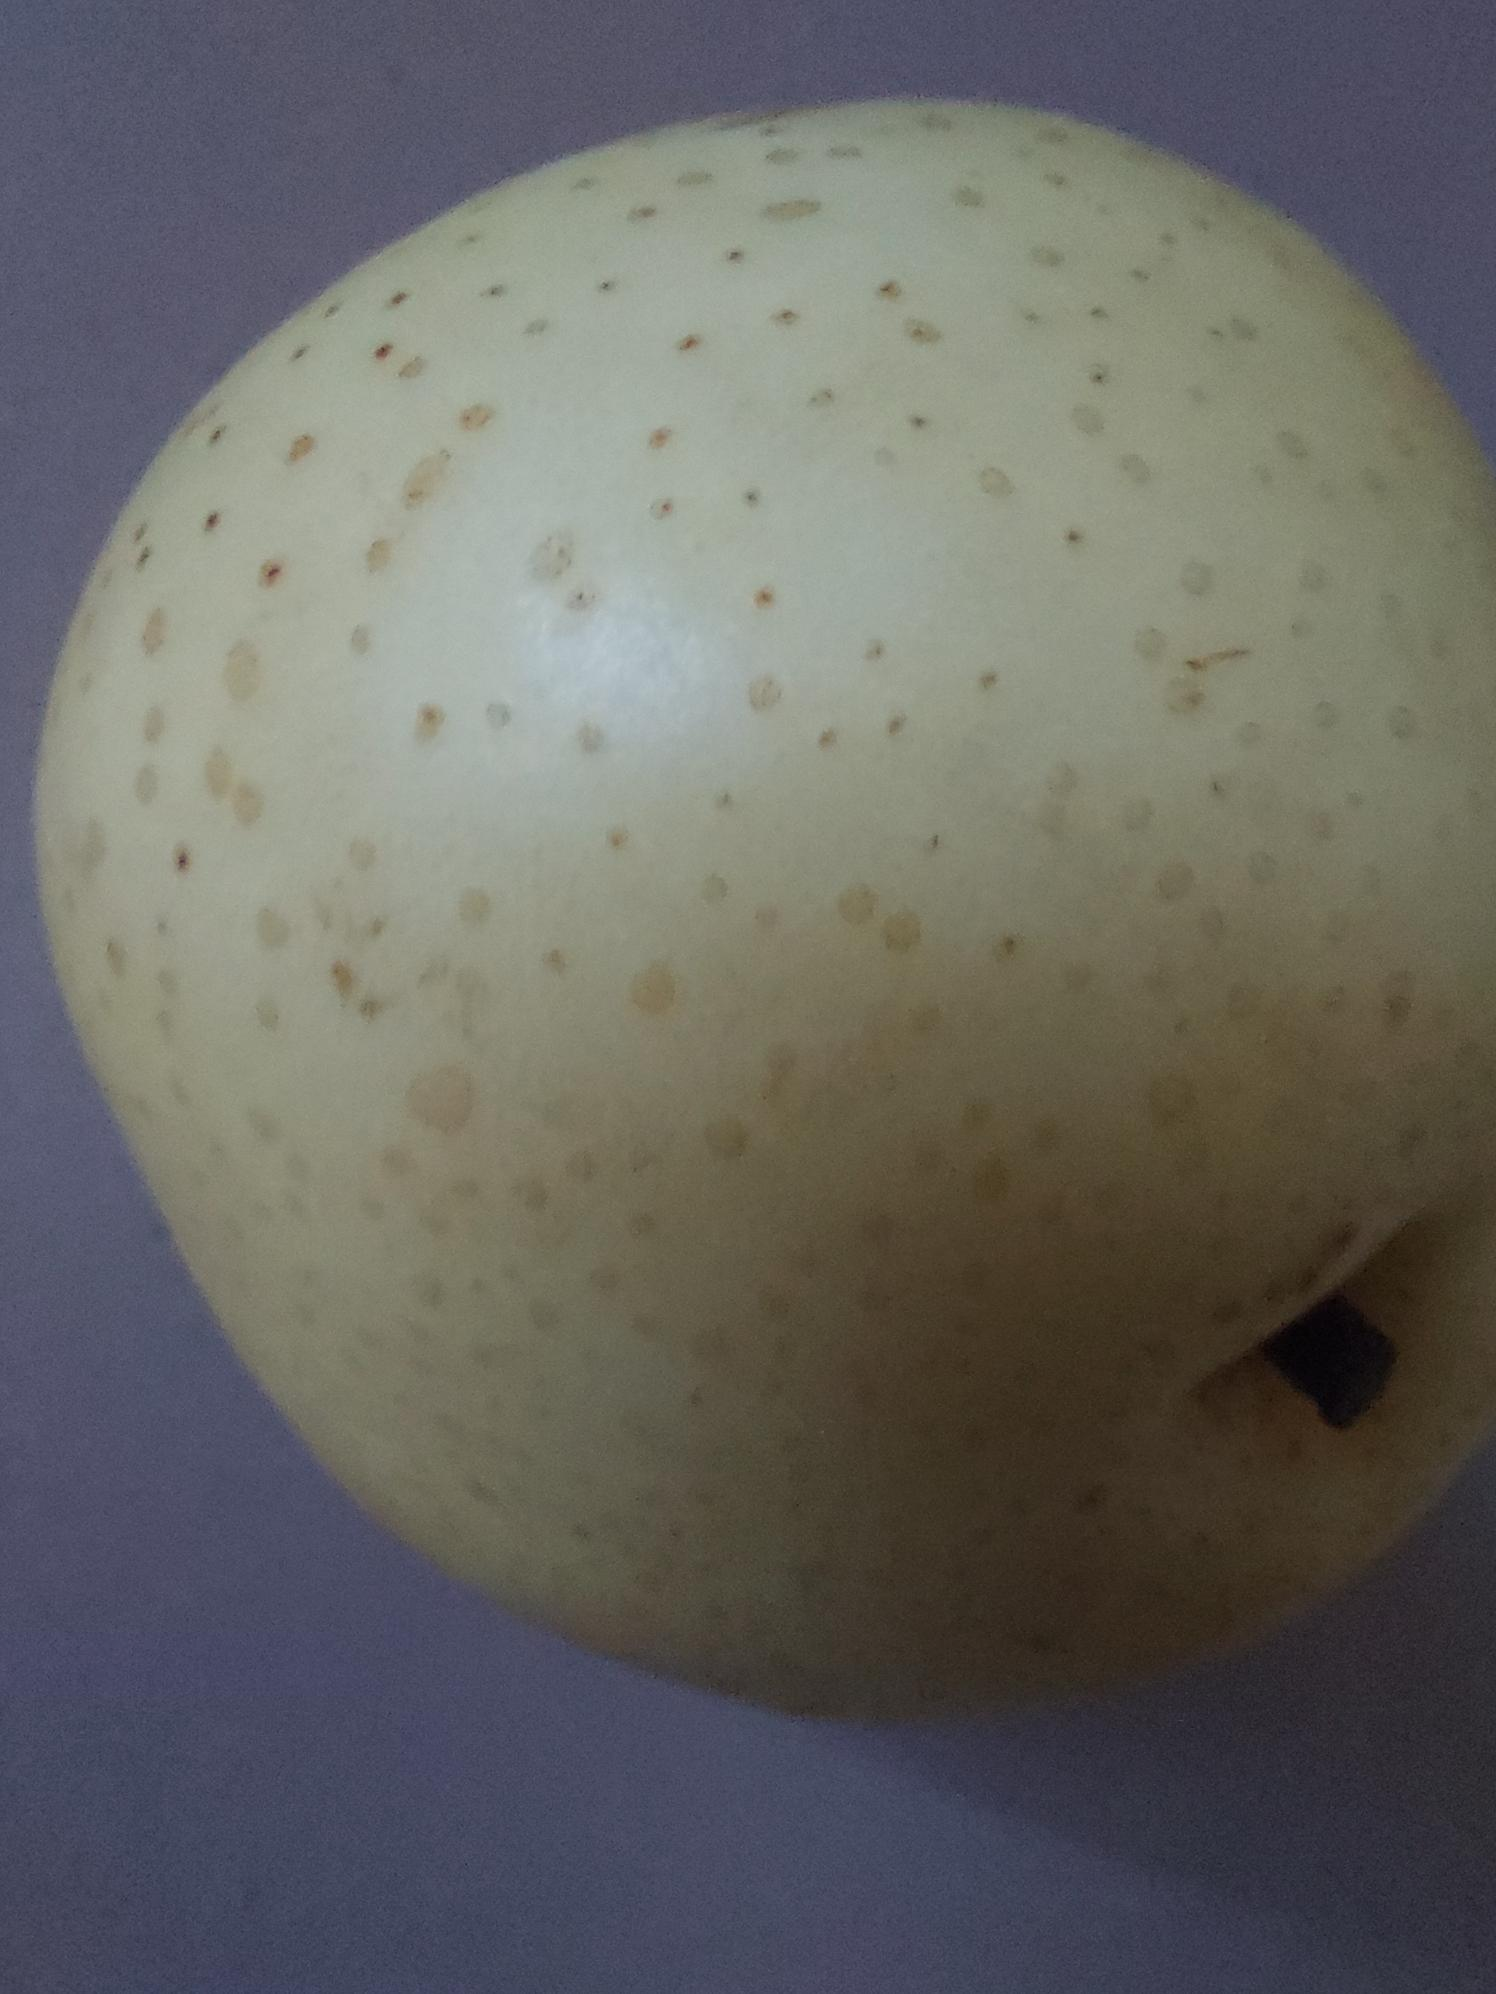Good Pear: (0, 46, 1496, 1805)
